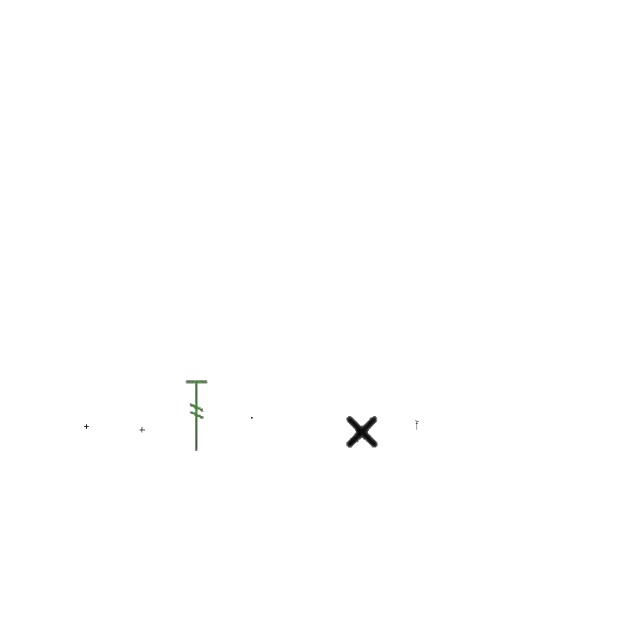chain: (251, 417, 253, 419)
double: (343, 410, 381, 452), (84, 424, 90, 430), (139, 427, 145, 433)
double treble: (415, 420, 419, 430)
fan: (183, 378, 211, 454)
